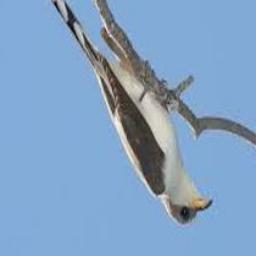Cuckoo: (45, 0, 212, 227)
